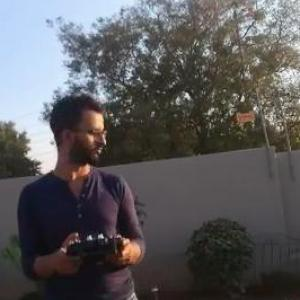follow: (17, 87, 153, 299)
